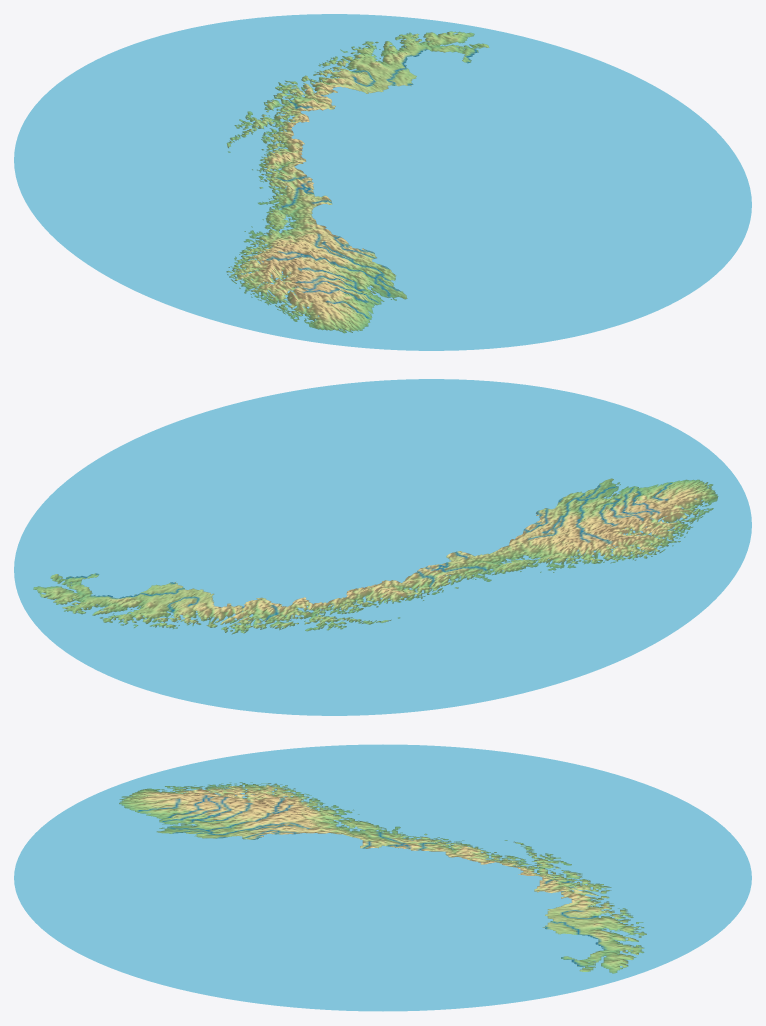
Rendered from NOR-terrain.glb.
3 renders of one model, top to bottom at view 1: azimuth 30°, elevation 25°; view 2: azimuth 150°, elevation 25°; view 3: azimuth 270°, elevation 25°, orthographic. The views are drawn at different scales.
Visible parts, largest first — view 1: Relevo com hidrografia; view 2: Relevo com hidrografia; view 3: Relevo com hidrografia.
Part boxes in pixels (x1=…): Relevo com hidrografia: x1=14, y1=14, x2=751, y2=350; Relevo com hidrografia: x1=14, y1=379, x2=751, y2=715; Relevo com hidrografia: x1=14, y1=744, x2=751, y2=1011.
Bounding box in the file's own units: 1.93 × 0.0209 × 2.25.
2 materials, 1 textured.
